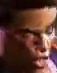kevin: (8, 10, 54, 71)
